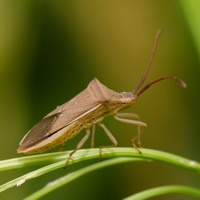insect: (17, 29, 185, 165)
